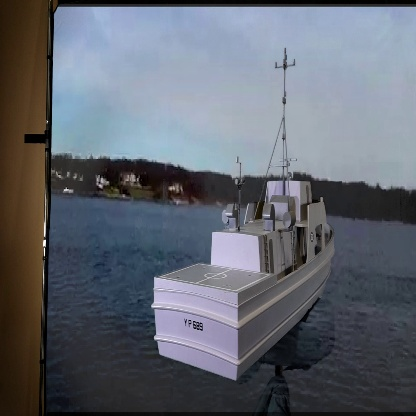YP689: (150, 51, 338, 377)
